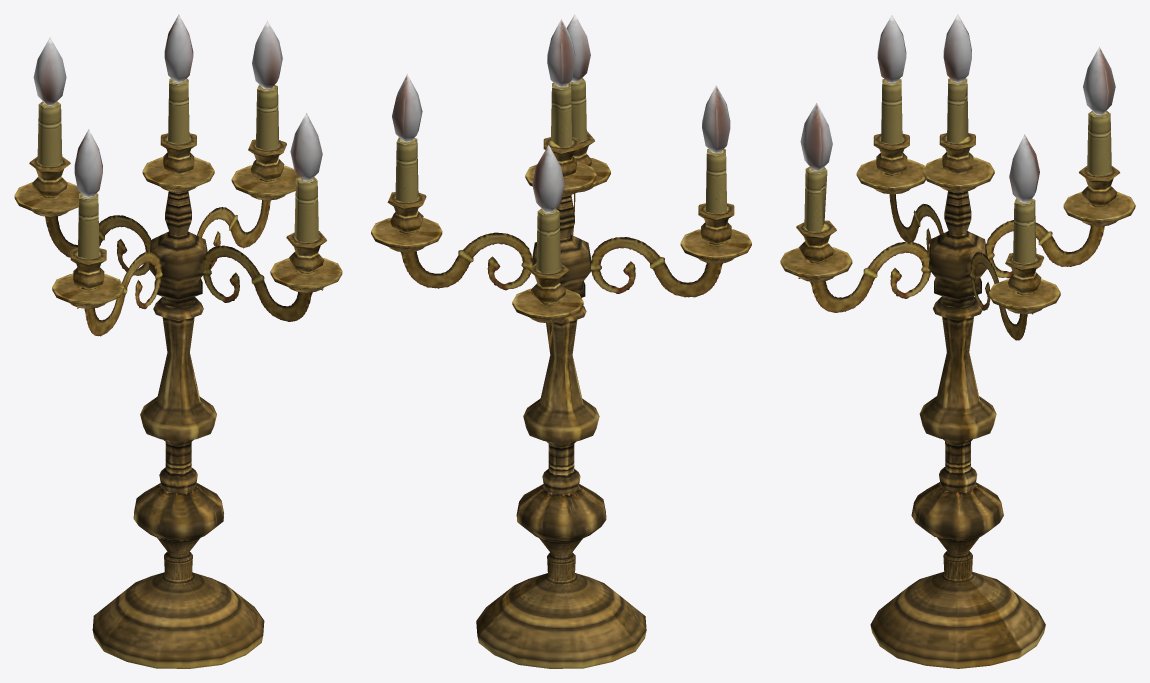
The model's file is Candle02.FBX.
The picture shows the model from 3 angles, left to right: view 1: azimuth 30°, elevation 25°; view 2: azimuth 150°, elevation 25°; view 3: azimuth 270°, elevation 25°; orthographic projection.
Visible parts, largest first — view 1: Candle02; view 2: Candle02; view 3: Candle02.
Part boxes in pixels (x1,y1,x2,y2): Candle02: (14,14,342,668); Candle02: (371,14,751,668); Candle02: (780,14,1135,668).
Bounding box in the file's own units: 44.46 × 85.22 × 44.32.
